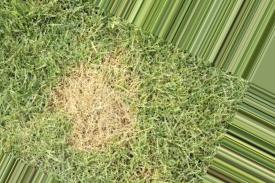patch: (74, 74, 114, 131), (122, 99, 134, 127), (58, 87, 69, 116), (118, 75, 131, 99), (83, 134, 104, 147)
